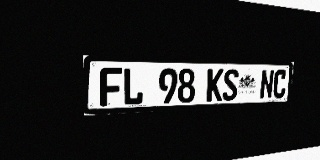8: (177, 68, 196, 103)
9: (158, 68, 178, 104)
C: (272, 70, 287, 99)
F: (100, 67, 122, 106)
K: (206, 69, 223, 102)
L: (123, 68, 144, 105)
N: (259, 69, 274, 99)
S: (222, 69, 239, 101)
